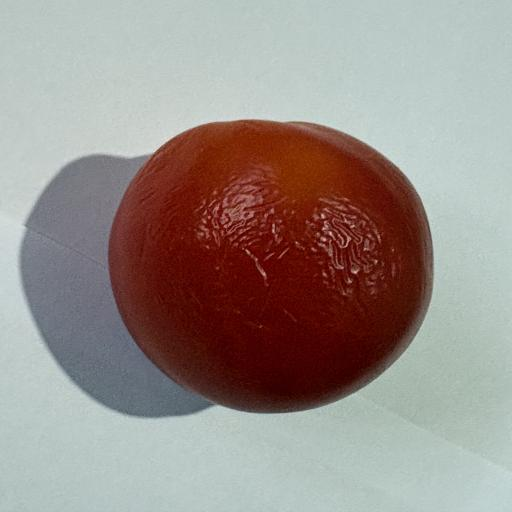spoiled: (109, 120, 433, 412)
